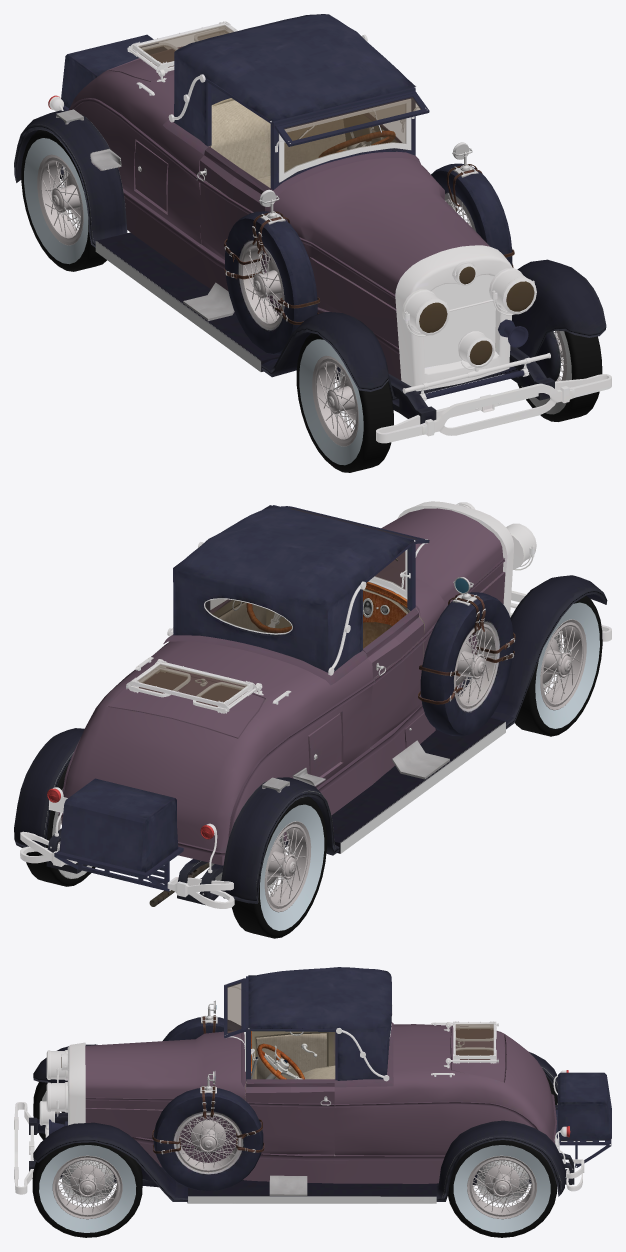
Rendered from car_vintage.glb.
The picture shows the model from 3 angles, top to bottom: view 1: azimuth 30°, elevation 25°; view 2: azimuth 150°, elevation 25°; view 3: azimuth 270°, elevation 25°; orthographic projection. The views are drawn at different scales.
Visible parts, largest first — view 1: body, wheel_FR, wheel_RR, wheel_FL, steer; view 2: body, wheel_RR, wheel_FR, wheel_RL; view 3: body, wheel_FL, wheel_RL, steer, wheel_FR.
Part boxes in pixels (x1,y1,x2,y2): body: (14, 14, 611, 443); wheel_FR: (296, 333, 393, 472); wheel_RR: (21, 130, 106, 271); wheel_FL: (517, 330, 602, 421); steer: (318, 127, 395, 157); body: (14, 501, 611, 908); wheel_RR: (232, 796, 326, 938); wheel_FR: (515, 596, 602, 736); wheel_RL: (26, 764, 95, 886); body: (14, 967, 611, 1203); wheel_FL: (32, 1142, 142, 1237); wheel_RL: (448, 1140, 556, 1237); steer: (257, 1043, 304, 1079); wheel_FR: (33, 1082, 61, 1139).
Size of what is drawn, in the model's own units: 1.85 by 1.93 by 5.
Materials: 10 (9 with a texture image).
